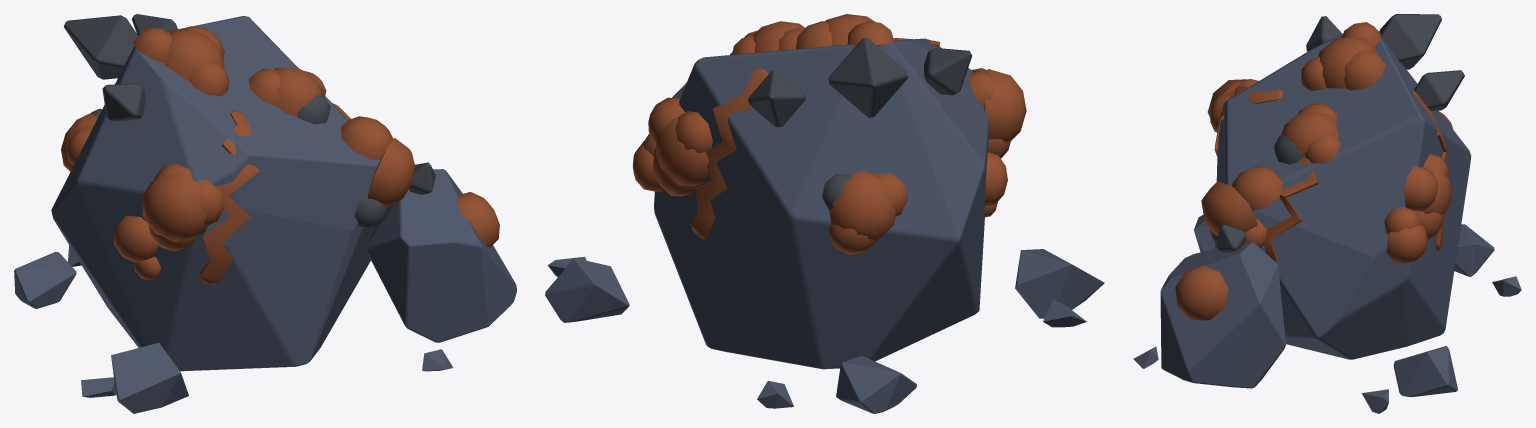
File: node_ore_iron.glb
The picture shows the model from 3 angles, left to right: view 1: azimuth 30°, elevation 25°; view 2: azimuth 150°, elevation 25°; view 3: azimuth 270°, elevation 25°; orthographic projection. The views are drawn at different scales.
Parts seen in each view (by area): view 1: Rock, Harvest; view 2: Rock, Harvest; view 3: Rock, Harvest.
Part boxes in pixels (box(x1,y1,x2,y2)): Rock: box(14, 16, 516, 413); Harvest: box(61, 14, 499, 284); Rock: box(545, 38, 1104, 413); Harvest: box(632, 14, 1026, 254); Rock: box(1133, 36, 1521, 413); Harvest: box(1175, 14, 1464, 320).
Size of what is drawn, in the model's own units: 1.64 by 1.11 by 1.46.
